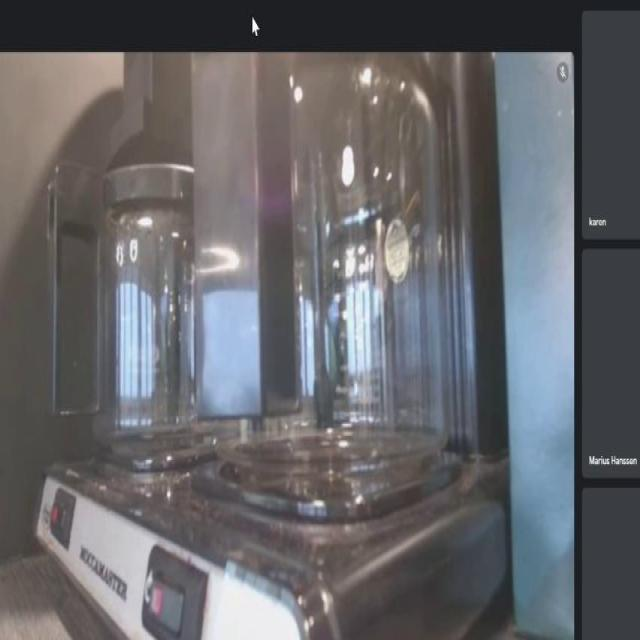nocoffee: (192, 54, 458, 512), (60, 131, 268, 472)
